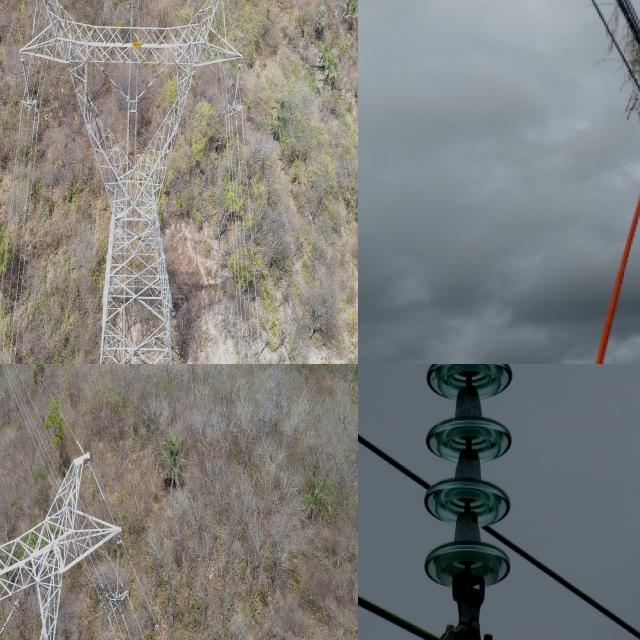杆塔: (11, 0, 258, 364), (0, 434, 127, 640)
植被遮挡: (602, 0, 640, 123)
正常电缆: (517, 536, 640, 640), (358, 424, 422, 497)
正常绝缘子: (425, 364, 512, 607), (18, 53, 37, 108), (0, 599, 20, 640), (230, 59, 245, 112), (115, 534, 124, 608)
